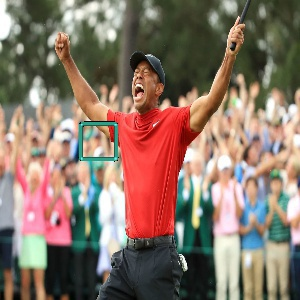square: (75, 118, 122, 164)
